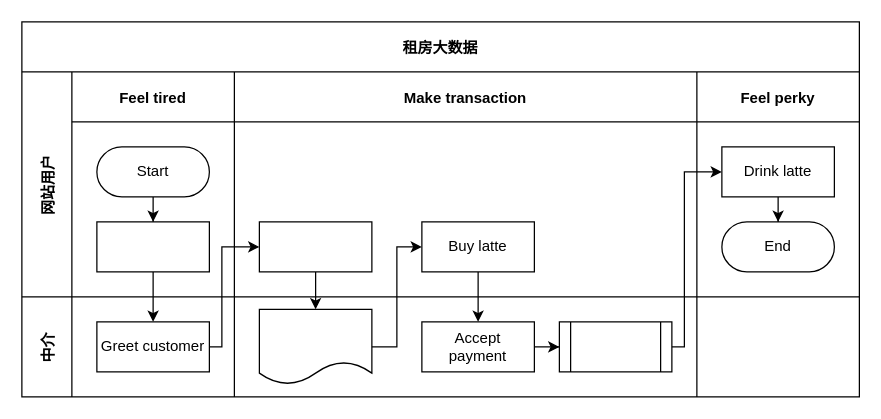
This 881x419 diagram has some shape labels left out. Here are the shapes that lost their labels. From the top down, the centre of each, then its label:
At (152,246): "Find barista".
At (315,246): "Request latte".
At (315,346): "Write details on cup".
At (615,346): "Make latte".
